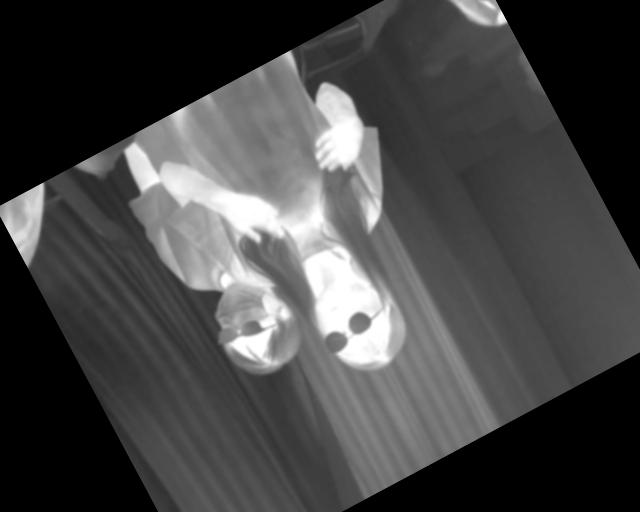face: (297, 256, 422, 388), (197, 266, 311, 390)
